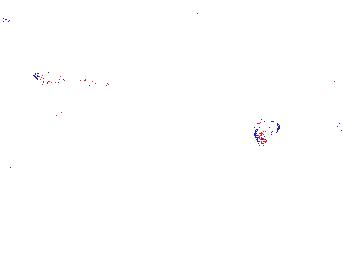glassfish: (1, 96, 66, 150)
red belly glassfish: (326, 70, 341, 87)
redtail glassfish: (32, 68, 105, 94), (250, 111, 281, 151)
